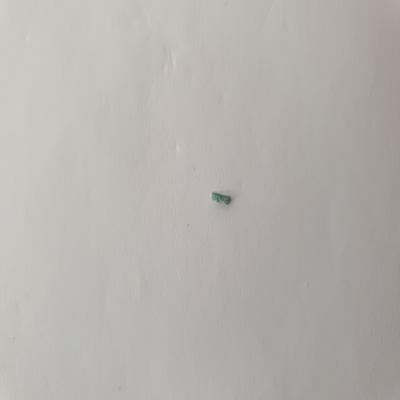plastic: (205, 187, 240, 210)
